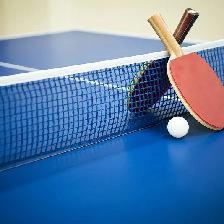WhiteBall: (166, 116, 188, 138)
